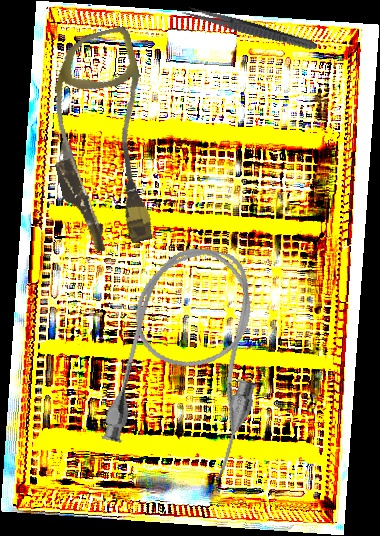Cannula: (97, 235, 285, 484), (26, 25, 179, 257)
Dressing Forceps: (181, 3, 319, 54)
